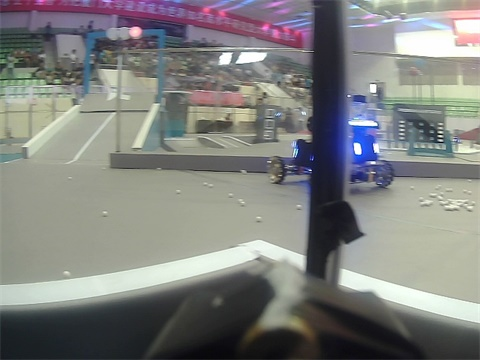chariot: (289, 82, 392, 198)
